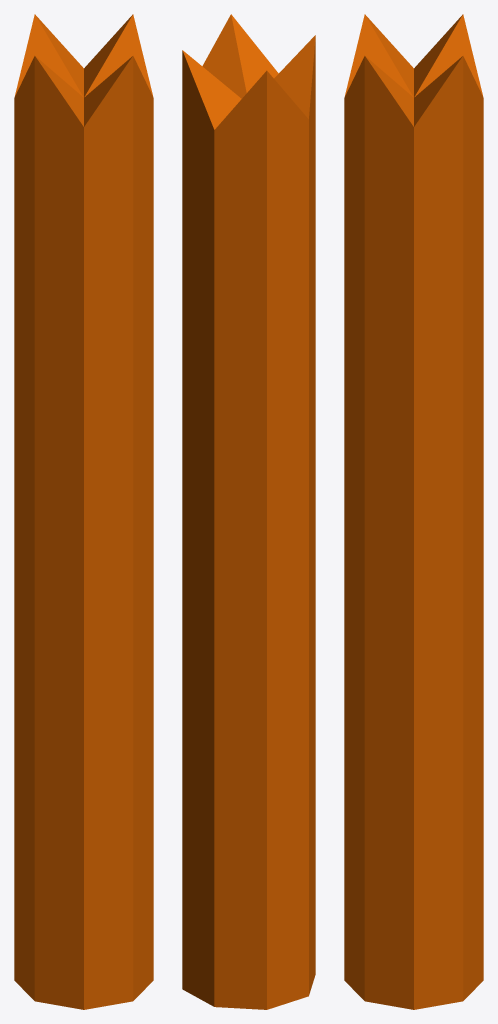
The model's file is guanine.glb.
3 renders of one model, left to right at view 1: azimuth 90°, elevation 25°; view 2: azimuth 150°, elevation 25°; view 3: azimuth 270°, elevation 25°, orthographic.
Parts seen in each view (by area): view 1: guanine; view 2: guanine; view 3: guanine.
Part boxes in pixels (x1,y1,x2,y2): guanine: (14, 14, 153, 1009); guanine: (182, 14, 315, 1009); guanine: (344, 14, 483, 1009).
Size of the model in its own units: 0.0833 by 0.625 by 0.0833.
